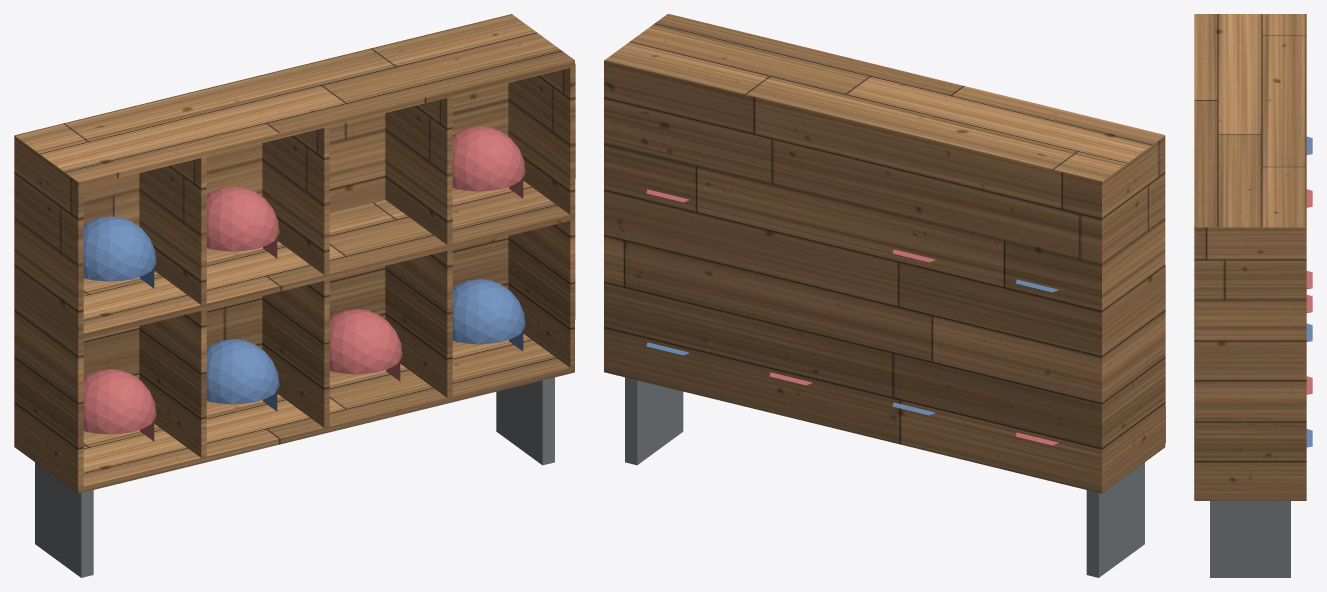
The model's file is helmet_rack.glb.
The picture shows the model from 3 angles, left to right: view 1: azimuth 30°, elevation 25°; view 2: azimuth 150°, elevation 25°; view 3: azimuth 270°, elevation 25°; orthographic projection. The views are drawn at different scales.
Visible parts, largest first — view 1: helmet_rack_wood, helmet_rack_helmet_r, helmet_rack_helmet_b, helmet_rack_steel_d; view 2: helmet_rack_wood, helmet_rack_steel_d, helmet_rack_helmet_r; view 3: helmet_rack_wood, helmet_rack_steel_d, helmet_rack_helmet_r, helmet_rack_helmet_b.
Part boxes in pixels (x1=…): helmet_rack_wood: x1=14, y1=14, x2=575, y2=493; helmet_rack_helmet_r: x1=83, y1=126, x2=525, y2=441; helmet_rack_helmet_b: x1=83, y1=216, x2=525, y2=411; helmet_rack_steel_d: x1=35, y1=377, x2=554, y2=577; helmet_rack_wood: x1=604, y1=14, x2=1165, y2=493; helmet_rack_steel_d: x1=625, y1=377, x2=1144, y2=577; helmet_rack_helmet_r: x1=646, y1=189, x2=1058, y2=445; helmet_rack_wood: x1=1194, y1=14, x2=1306, y2=500; helmet_rack_steel_d: x1=1210, y1=501, x2=1290, y2=577; helmet_rack_helmet_r: x1=1306, y1=189, x2=1312, y2=394; helmet_rack_helmet_b: x1=1306, y1=136, x2=1312, y2=447.
Size of the model in its own units: 1.62 by 1.26 by 0.38.
4 materials, 1 textured.
